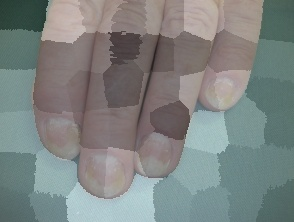Nail_psoriasis: (72, 141, 139, 206), (132, 120, 181, 183), (196, 64, 247, 118), (35, 110, 85, 163)
